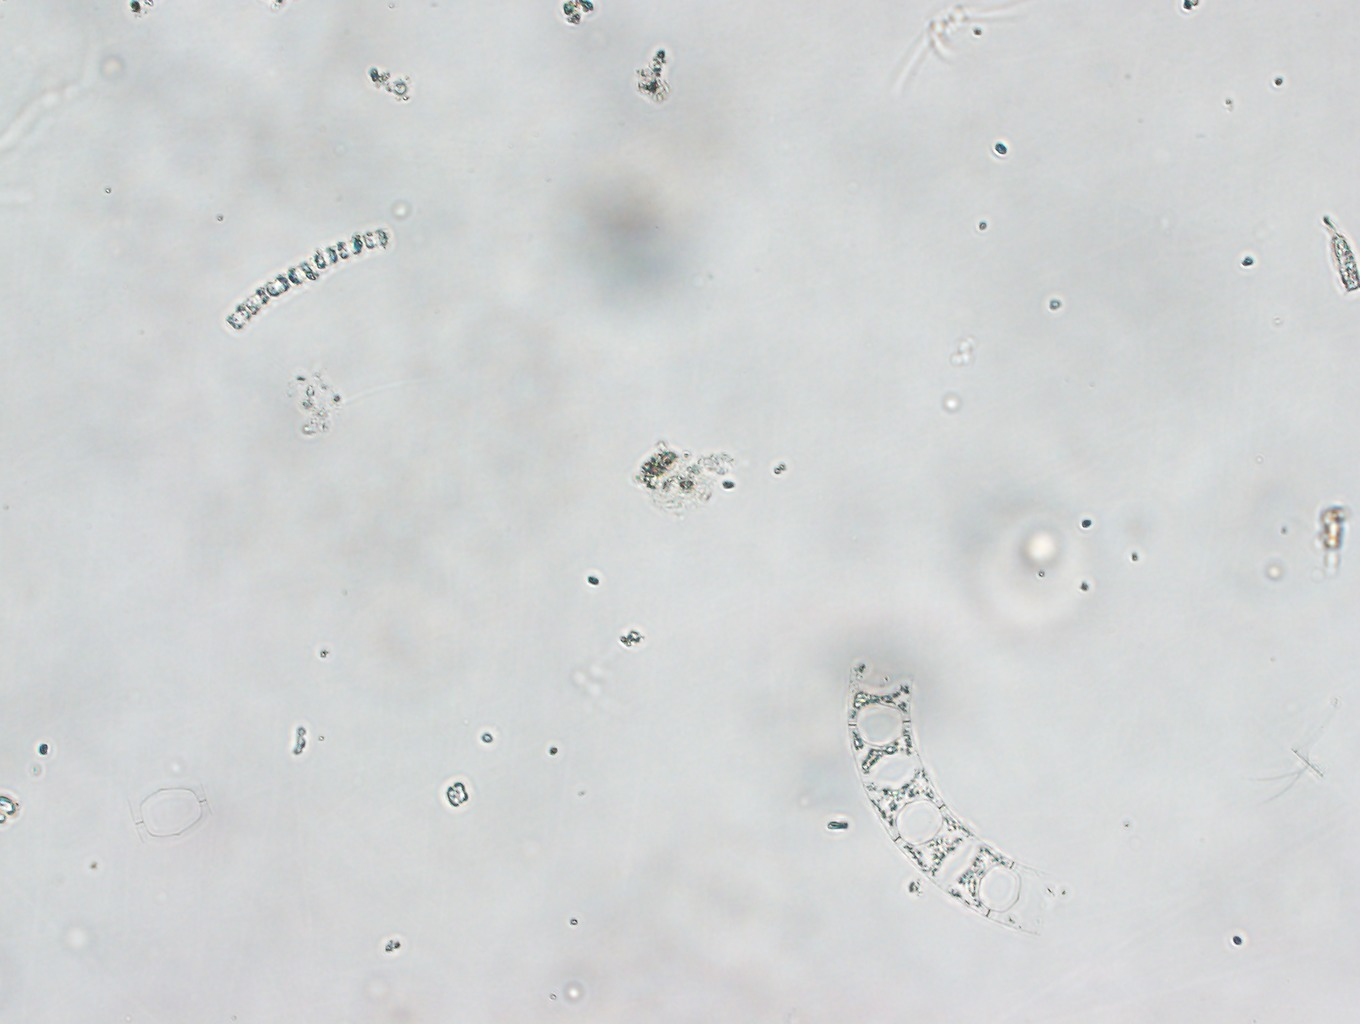eucampia: (840, 639, 1041, 947)
